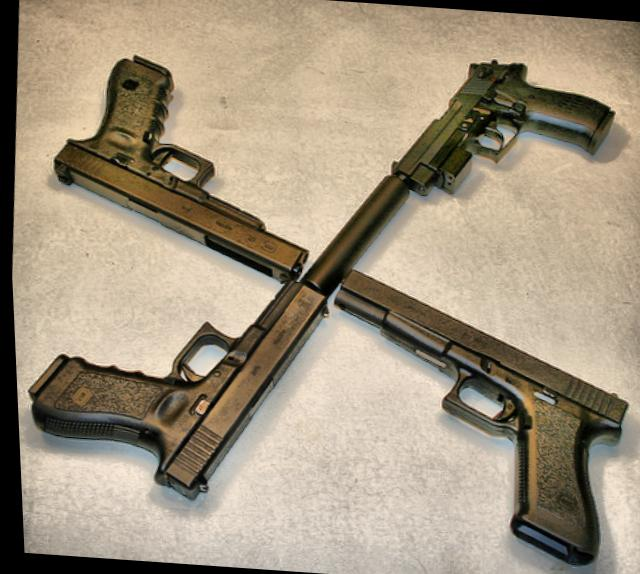pistol: (312, 265, 636, 569), (14, 258, 329, 505), (38, 46, 318, 283), (376, 50, 622, 218)
